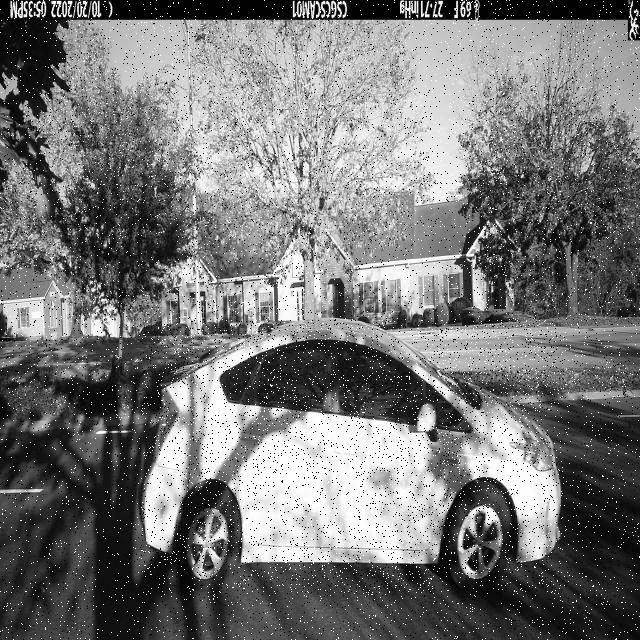Hatchback: (141, 318, 563, 593)
